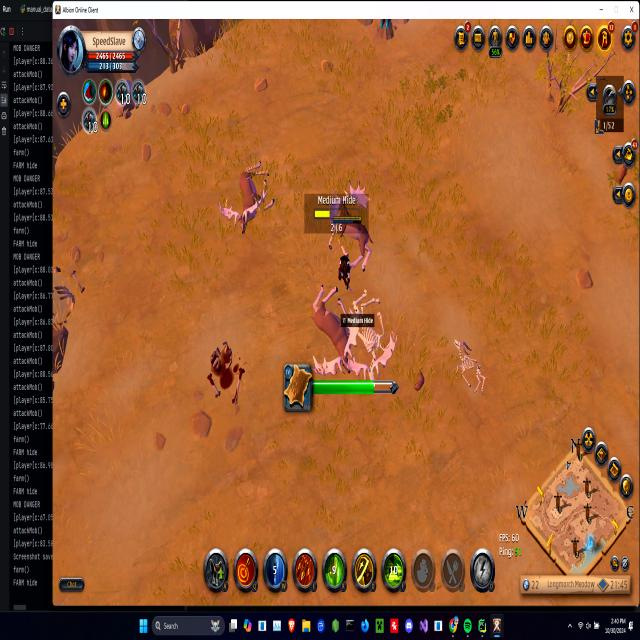mob: (312, 278, 361, 384), (235, 160, 276, 235), (344, 178, 375, 274)
player: (374, 18, 396, 41)
red: (335, 242, 355, 290)
